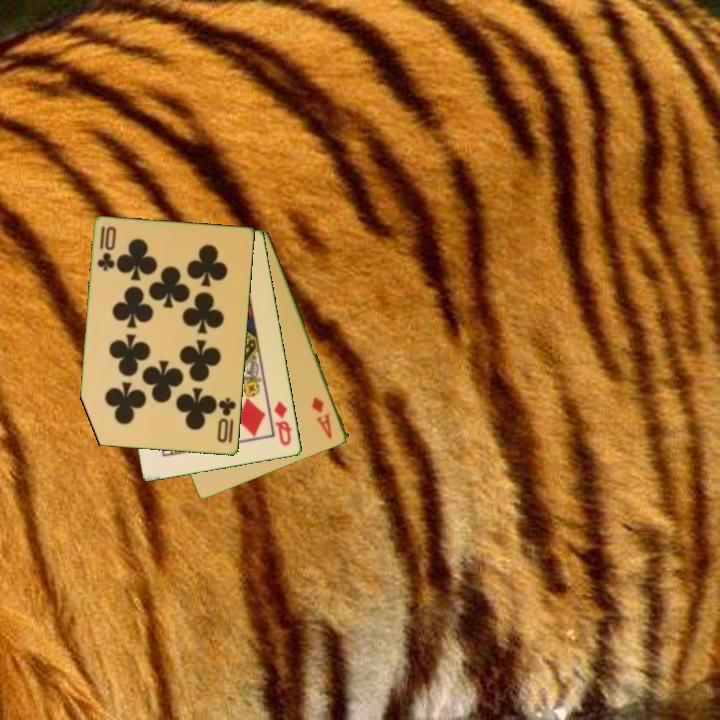10c: (214, 394, 239, 446), (94, 223, 119, 274)
Ad: (308, 394, 335, 442)
Qd: (271, 398, 295, 449)
